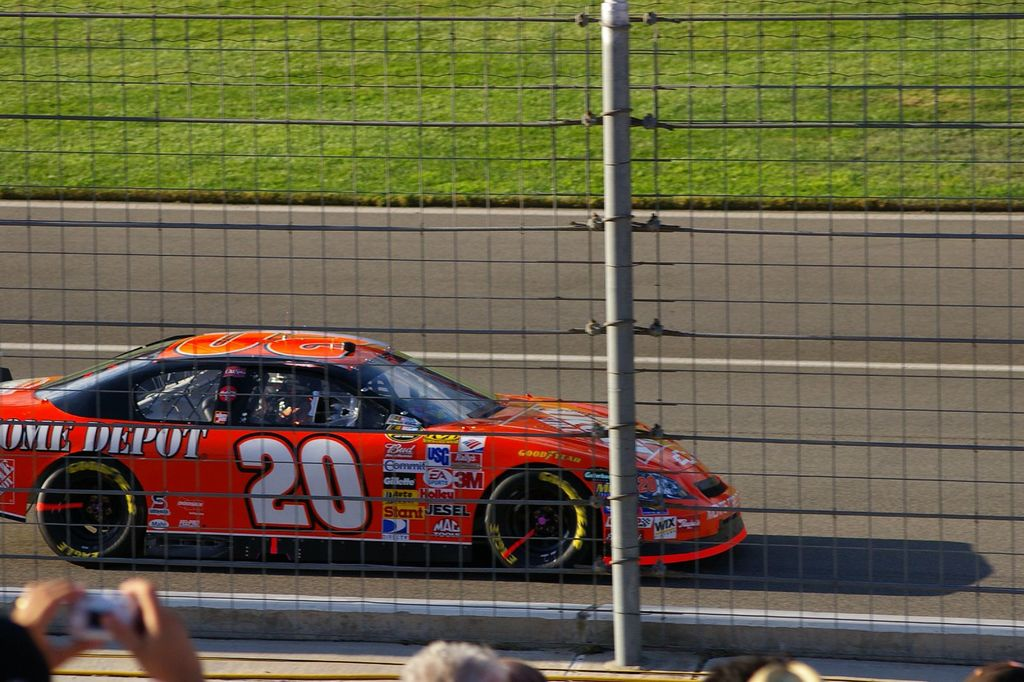mobil: (5, 333, 753, 591)
